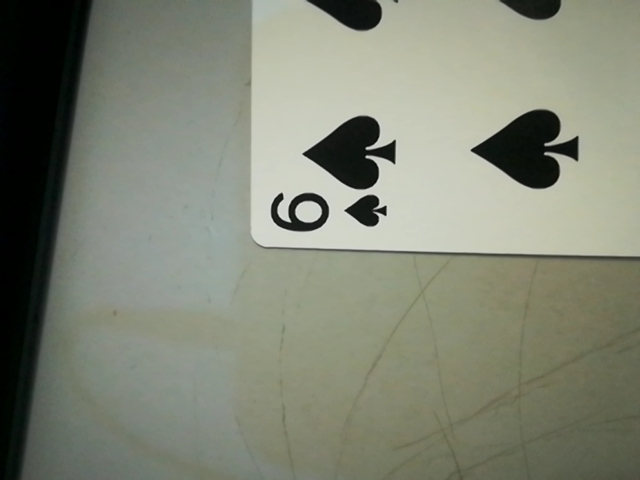ht 6: (256, 177, 395, 247)
